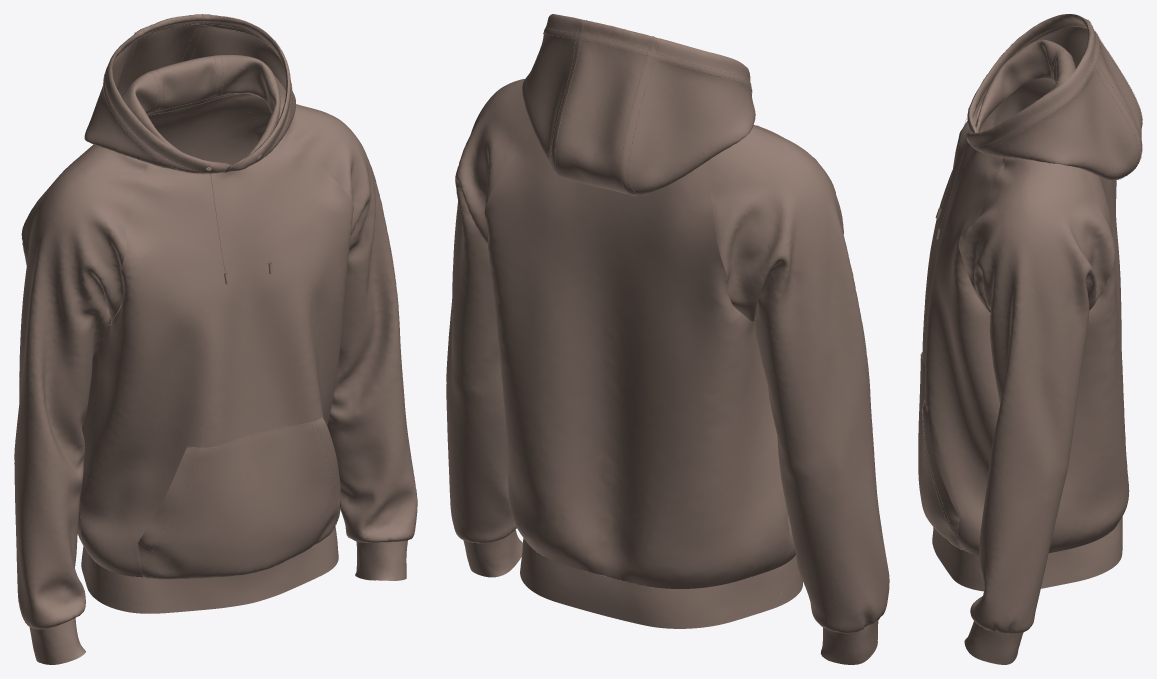
The model's file is hoodie2.glb.
3 renders of one model, left to right at view 1: azimuth 30°, elevation 25°; view 2: azimuth 150°, elevation 25°; view 3: azimuth 270°, elevation 25°, orthographic. The views are drawn at different scales.
Parts seen in each view (by area): view 1: Pattern_106161, Pattern_106145, Pattern_106144, Cloth, Pattern_152595, Pattern_106132, Pattern_106131, Pattern_106151, Pattern_106150, Pattern_912856, Pattern_912855, Pattern_1207603 (+1 smaller); view 2: Pattern_106151, Pattern_106145, Pattern_106144, Pattern_106132, Pattern_106150, Pattern_152596, Pattern_106131, Pattern_912856, Pattern_912855, Pattern_152595; view 3: Pattern_106144, Pattern_106161, Pattern_106151, Pattern_106131, Pattern_106132, Cloth, Pattern_152596, Pattern_106150, Pattern_1207604, Pattern_912856, Pattern_152595, Pattern_106145.
Part boxes in pixels (x1=…): Pattern_106161: x1=80, y1=134, x2=353, y2=577; Pattern_106145: x1=14, y1=144, x2=147, y2=629; Pattern_106144: x1=228, y1=93, x2=417, y2=542; Cloth: x1=137, y1=168, x2=340, y2=579; Pattern_152595: x1=90, y1=526, x2=338, y2=613; Pattern_106132: x1=84, y1=31, x2=231, y2=174; Pattern_106131: x1=191, y1=14, x2=295, y2=172; Pattern_106151: x1=77, y1=94, x2=258, y2=550; Pattern_106150: x1=119, y1=14, x2=217, y2=109; Pattern_912856: x1=355, y1=540, x2=407, y2=580; Pattern_912855: x1=29, y1=618, x2=85, y2=664; Pattern_1207603: x1=202, y1=15, x2=287, y2=168; Pattern_106151: x1=484, y1=130, x2=788, y2=588; Pattern_106145: x1=703, y1=125, x2=889, y2=633; Pattern_106144: x1=446, y1=79, x2=533, y2=543; Pattern_106132: x1=625, y1=38, x2=755, y2=195; Pattern_106150: x1=552, y1=20, x2=656, y2=195; Pattern_152596: x1=520, y1=538, x2=782, y2=628; Pattern_106131: x1=522, y1=14, x2=582, y2=173; Pattern_912856: x1=463, y1=529, x2=522, y2=577; Pattern_912855: x1=820, y1=620, x2=878, y2=664; Pattern_152595: x1=780, y1=542, x2=802, y2=604; Pattern_106144: x1=959, y1=157, x2=1114, y2=633; Pattern_106161: x1=922, y1=126, x2=1004, y2=555; Pattern_106151: x1=1048, y1=170, x2=1129, y2=552; Pattern_106131: x1=966, y1=52, x2=1140, y2=180; Pattern_106132: x1=967, y1=14, x2=1088, y2=132; Cloth: x1=918, y1=117, x2=967, y2=549; Pattern_152596: x1=1041, y1=516, x2=1122, y2=588; Pattern_106150: x1=1053, y1=20, x2=1142, y2=171; Pattern_1207604: x1=969, y1=14, x2=1087, y2=132; Pattern_912856: x1=964, y1=621, x2=1023, y2=664; Pattern_152595: x1=932, y1=527, x2=984, y2=591; Pattern_106145: x1=961, y1=78, x2=1055, y2=132.
Bounding box in the file's own units: 0.5759 × 0.8042 × 0.2982.
